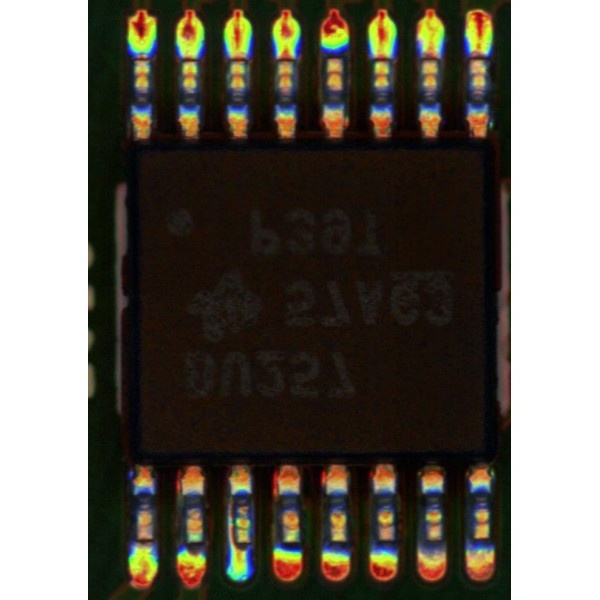Bad_podu: (423, 42, 435, 76), (376, 42, 387, 73), (474, 40, 485, 68), (280, 45, 291, 73), (232, 48, 244, 73)
Bad_qiaojiao: (228, 497, 235, 543)
